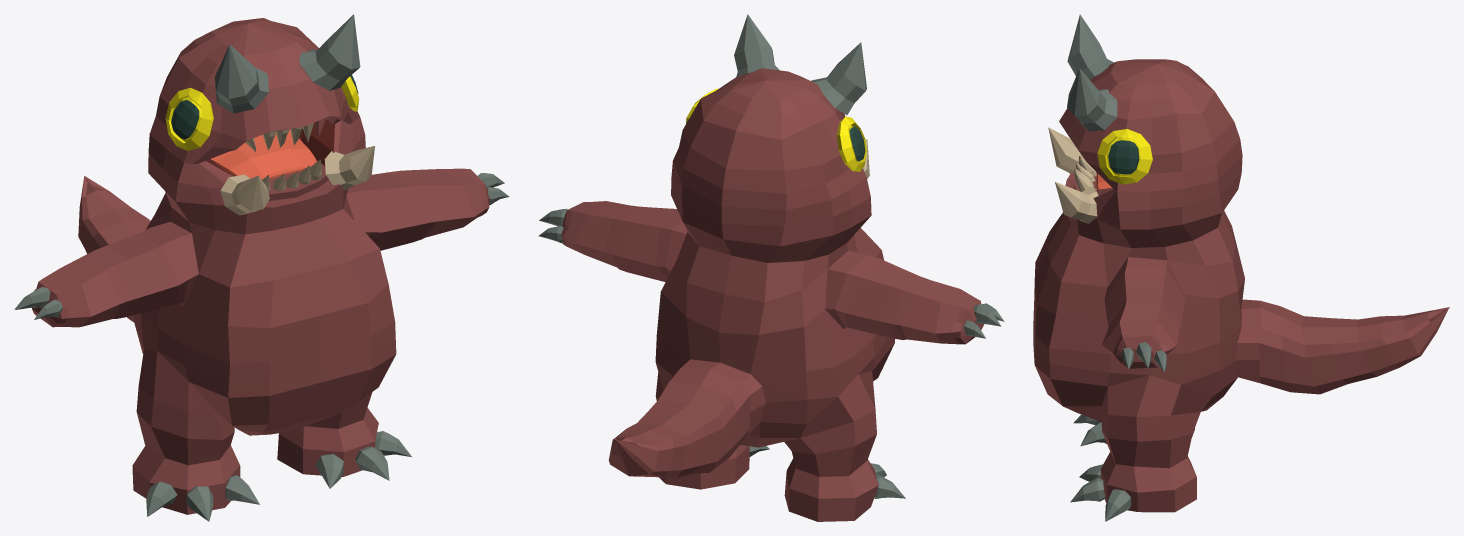
File: 2st Floor Monster 1.fbx
The picture shows the model from 3 angles, left to right: view 1: azimuth 30°, elevation 25°; view 2: azimuth 150°, elevation 25°; view 3: azimuth 270°, elevation 25°; orthographic projection. The views are drawn at different scales.
Parts seen in each view (by area): view 1: Icosphere.002; view 2: Icosphere.002; view 3: Icosphere.002.
Boxes of the visible parts, x1,y1,x2,y2 form: Icosphere.002: [14, 14, 509, 521]; Icosphere.002: [538, 14, 1004, 521]; Icosphere.002: [1033, 14, 1449, 521].
Size of the model in its own units: 497 by 454 by 403.
